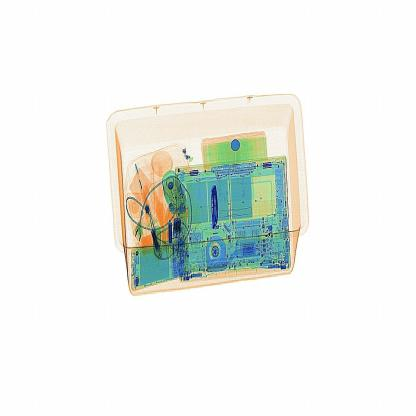knife: (189, 179, 228, 243)
